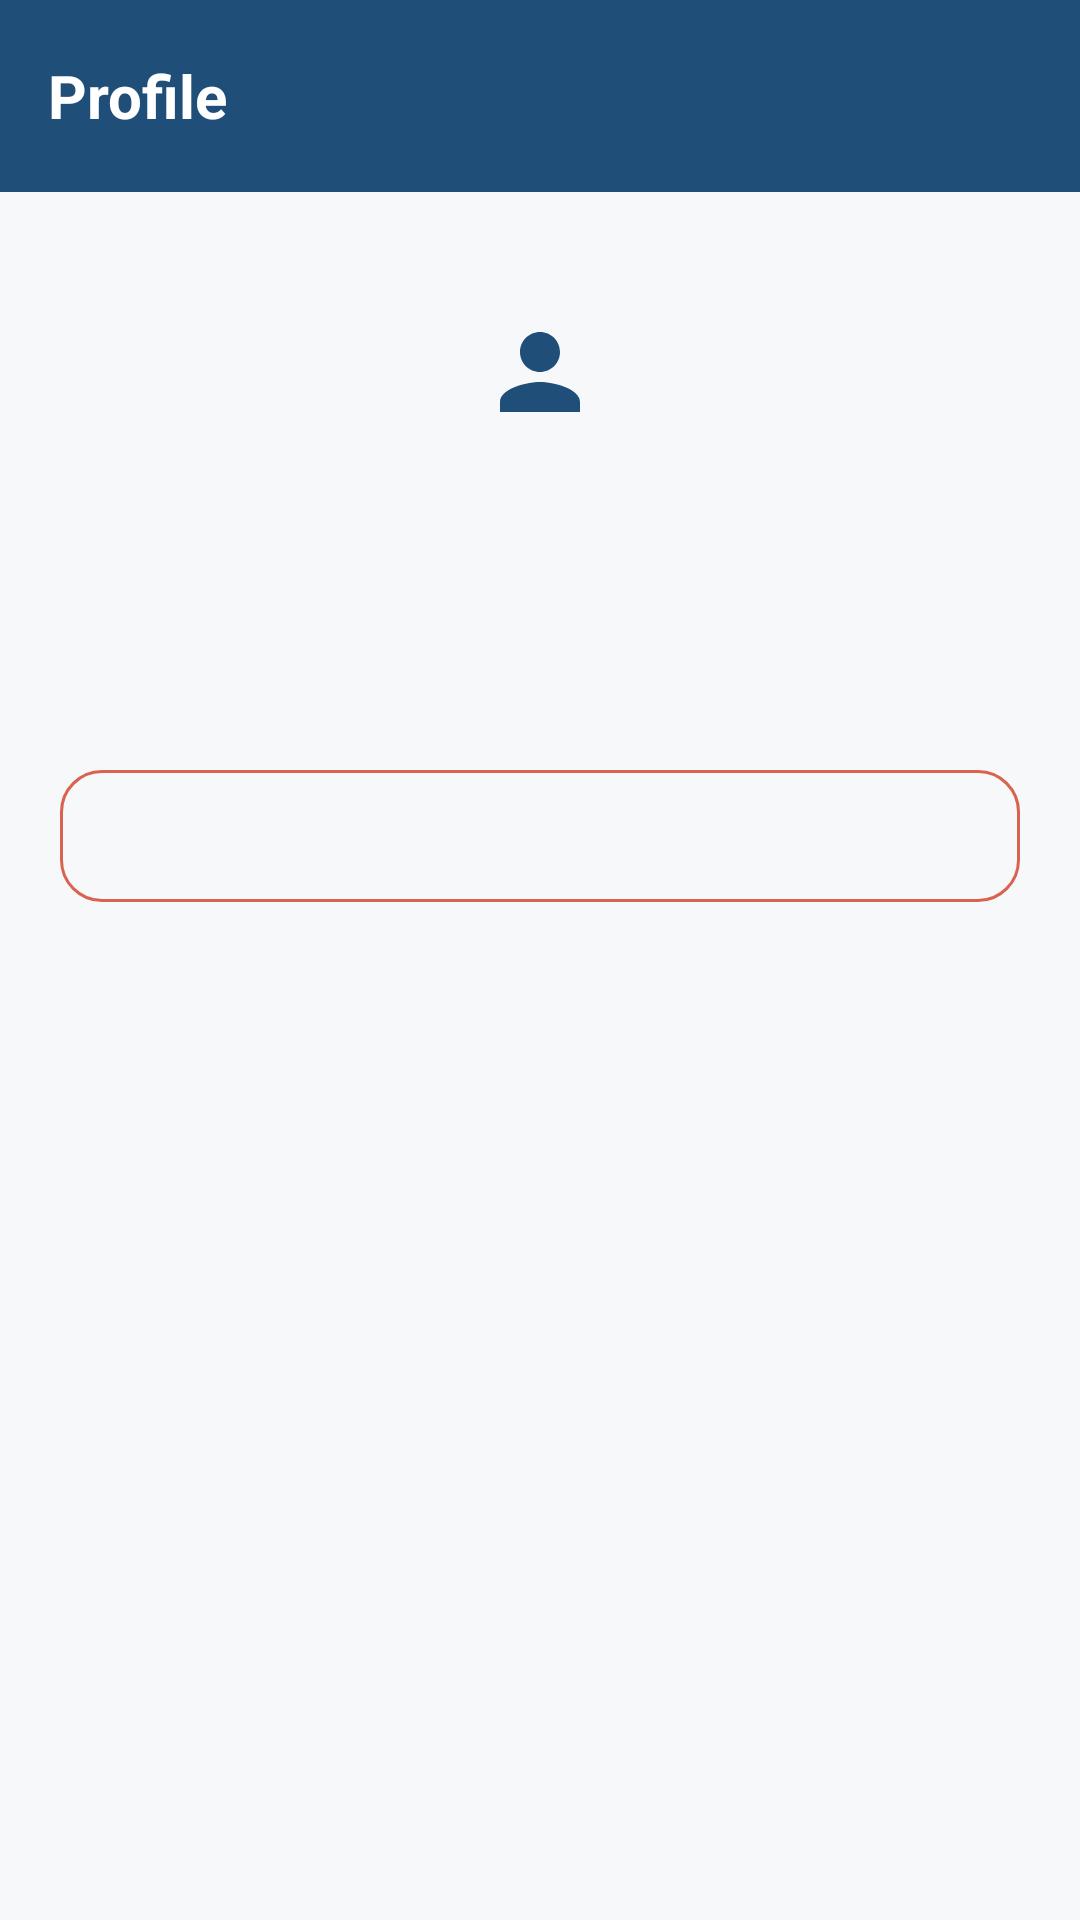

Icon bounding boxes for this 1080px x 1920px phone screenshot, format box(x1, y1, x2, y2):
person: box(500, 332, 580, 412)
